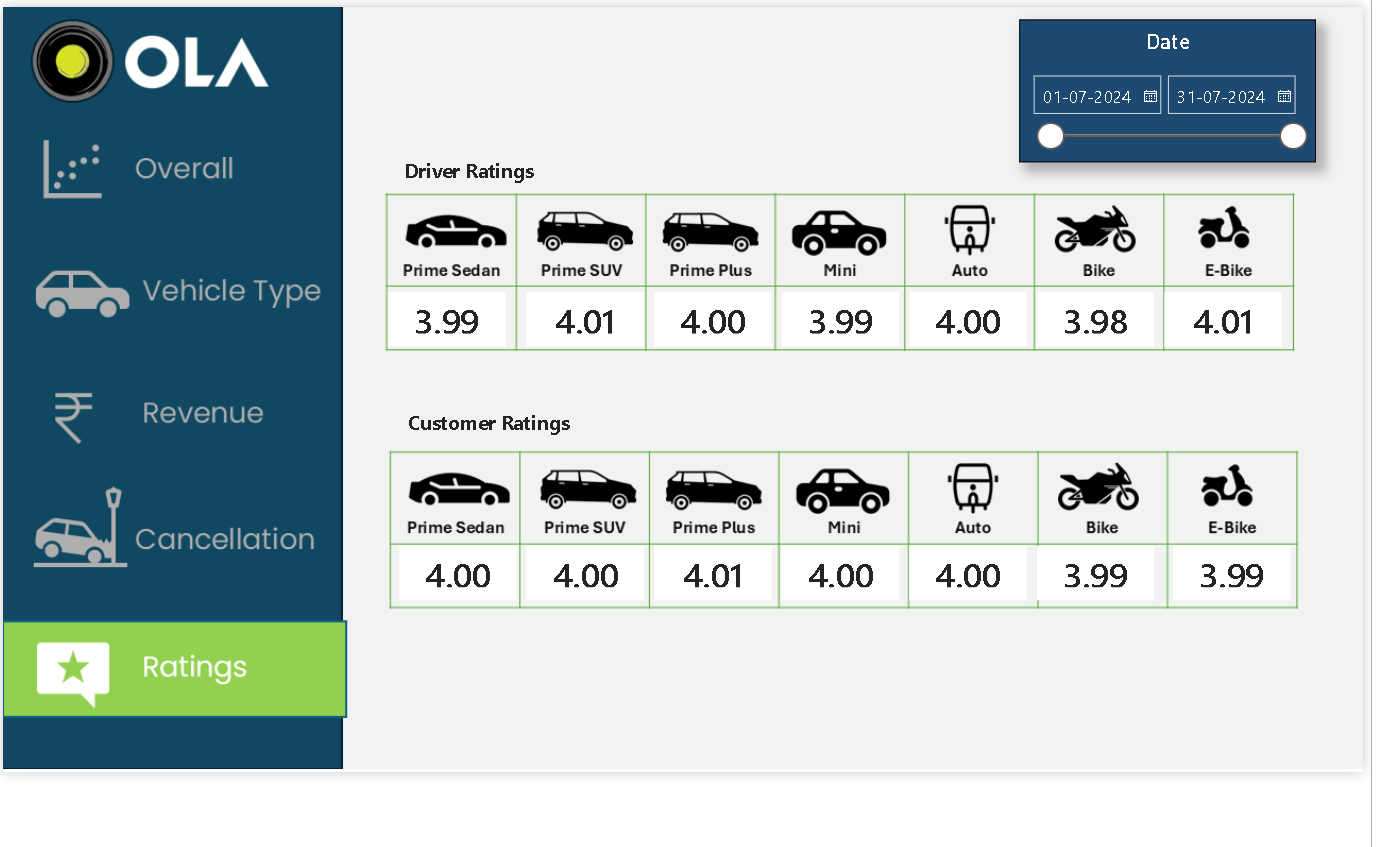

Layout of this report page (visuals, bound fields, positions):
{"tool":"powerbi","page":{"name":"Ratings","canvas":[1280,720],"ordinal":4},"visuals":[{"type":"cardVisual","fields":{"Data":["Avg(bookings_cleaned.Driver_Ratings)"]},"box":[357.6,263.5,120,61.2],"z":0},{"type":"cardVisual","fields":{"Data":["Avg(bookings_cleaned.Driver_Ratings)"]},"box":[488.2,263.5,120,61.2],"z":1000},{"type":"cardVisual","fields":{"Data":["Avg(bookings_cleaned.Driver_Ratings)"]},"box":[608.2,263.5,120,61.2],"z":2000},{"type":"cardVisual","fields":{"Data":["Avg(bookings_cleaned.Driver_Ratings)"]},"box":[728.2,263.5,120,61.2],"z":3000},{"type":"cardVisual","fields":{"Data":["Avg(bookings_cleaned.Driver_Ratings)"]},"box":[848.2,263.5,120,61.2],"z":4000},{"type":"cardVisual","fields":{"Data":["Avg(bookings_cleaned.Driver_Ratings)"]},"box":[968.2,263.5,120,61.2],"z":5000},{"type":"cardVisual","fields":{"Data":["Avg(bookings_cleaned.Driver_Ratings)"]},"box":[1088.2,263.5,120,61.2],"z":6000},{"type":"cardVisual","fields":{"Data":["Avg(bookings_cleaned.Customer_Rating)"]},"box":[368.2,502.4,120,61.2],"z":7000},{"type":"cardVisual","fields":{"Data":["Avg(bookings_cleaned.Customer_Rating)"]},"box":[488.2,502.4,120,61.2],"z":8000},{"type":"cardVisual","fields":{"Data":["Avg(bookings_cleaned.Customer_Rating)"]},"box":[608.2,502.4,120,61.2],"z":9000},{"type":"cardVisual","fields":{"Data":["Avg(bookings_cleaned.Customer_Rating)"]},"box":[728.2,502.4,120,61.2],"z":10000},{"type":"cardVisual","fields":{"Data":["Avg(bookings_cleaned.Customer_Rating)"]},"box":[848.2,502.4,120,61.2],"z":11000},{"type":"cardVisual","fields":{"Data":["Avg(bookings_cleaned.Customer_Rating)"]},"box":[968.2,502.4,120,61.2],"z":12000},{"type":"cardVisual","fields":{"Data":["Avg(bookings_cleaned.Customer_Rating)"]},"box":[1096.5,502.4,120,61.2],"z":13000},{"type":"textbox","box":[357.6,136.5,161.2,38.8],"z":14000},{"type":"textbox","box":[357.6,372.9,198.8,42.4],"z":15000},{"type":"slicer","title":"Date","fields":{"Values":["bookings_cleaned.Date"]},"box":[956.5,11.8,279.5,134.6],"z":16000},{"type":"actionButton","box":[0,105,324.3,107],"z":16001},{"type":"actionButton","box":[0,195.3,324.3,107],"z":16002},{"type":"actionButton","box":[0,329.4,324.3,107],"z":16003},{"type":"actionButton","box":[0,453.1,324.3,107],"z":16004}]}

Visuals, with their boxes on the page's 1280x720 design canvas (x1, y1, x2, y2). These are canvas units, not pixel positions in the 1376x847 screenshot, which may show the page scaled, cropped or inside an application window:
cardVisual - Avg(bookings_cleaned.Driver_Ratings): box(358, 264, 478, 325)
cardVisual - Avg(bookings_cleaned.Driver_Ratings): box(488, 264, 608, 325)
cardVisual - Avg(bookings_cleaned.Driver_Ratings): box(608, 264, 728, 325)
cardVisual - Avg(bookings_cleaned.Driver_Ratings): box(728, 264, 848, 325)
cardVisual - Avg(bookings_cleaned.Driver_Ratings): box(848, 264, 968, 325)
cardVisual - Avg(bookings_cleaned.Driver_Ratings): box(968, 264, 1088, 325)
cardVisual - Avg(bookings_cleaned.Driver_Ratings): box(1088, 264, 1208, 325)
cardVisual - Avg(bookings_cleaned.Customer_Rating): box(368, 502, 488, 564)
cardVisual - Avg(bookings_cleaned.Customer_Rating): box(488, 502, 608, 564)
cardVisual - Avg(bookings_cleaned.Customer_Rating): box(608, 502, 728, 564)
cardVisual - Avg(bookings_cleaned.Customer_Rating): box(728, 502, 848, 564)
cardVisual - Avg(bookings_cleaned.Customer_Rating): box(848, 502, 968, 564)
cardVisual - Avg(bookings_cleaned.Customer_Rating): box(968, 502, 1088, 564)
cardVisual - Avg(bookings_cleaned.Customer_Rating): box(1096, 502, 1216, 564)
textbox: box(358, 136, 519, 175)
textbox: box(358, 373, 556, 415)
"Date" slicer: box(956, 12, 1236, 146)
actionButton: box(0, 105, 324, 212)
actionButton: box(0, 195, 324, 302)
actionButton: box(0, 329, 324, 436)
actionButton: box(0, 453, 324, 560)
